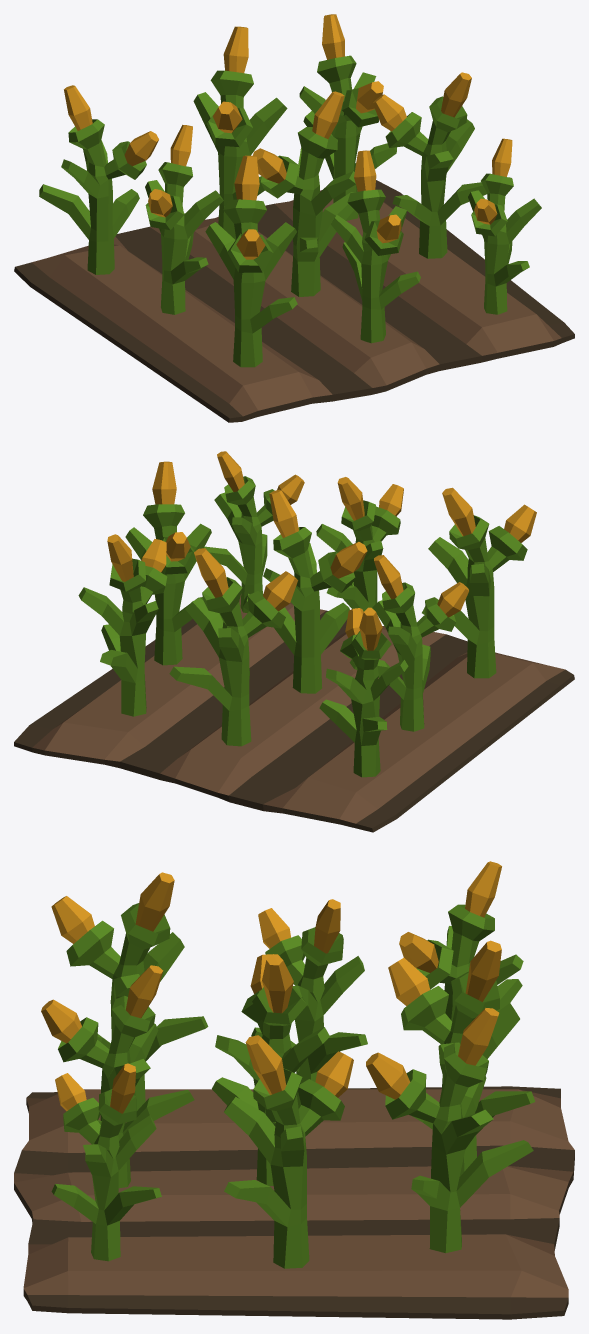
Rendered from ColonistCornFarm.fbx.
The picture shows the model from 3 angles, top to bottom: view 1: azimuth 30°, elevation 25°; view 2: azimuth 150°, elevation 25°; view 3: azimuth 270°, elevation 25°; orthographic projection. The views are drawn at different scales.
Visible parts, largest first — view 1: ColonistCornFarm; view 2: ColonistCornFarm; view 3: ColonistCornFarm.
Boxes of the visible parts, bbox=[...] form: ColonistCornFarm: bbox=[14, 14, 574, 422]; ColonistCornFarm: bbox=[14, 451, 574, 832]; ColonistCornFarm: bbox=[14, 861, 574, 1319].
Size of the model in its own units: 201 by 113 by 208.
